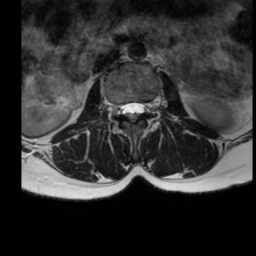CCS_normal: (129, 95, 137, 128)
LFS_normal: (145, 96, 153, 120)
LLS_normal: (137, 96, 145, 123)
RFS_normal: (113, 96, 121, 122)
RLS_normal: (121, 97, 129, 122)
